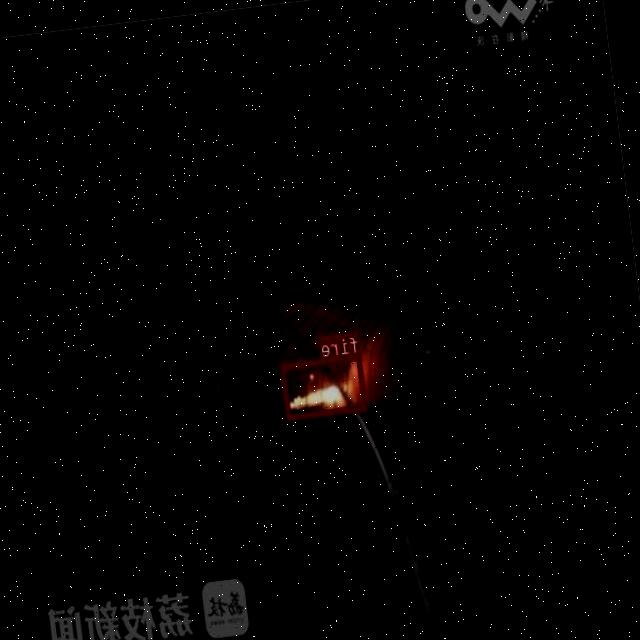fire: (281, 352, 368, 418)
